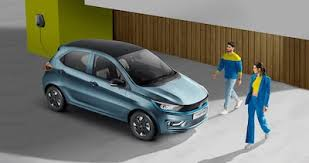Tiago: (41, 37, 211, 144)
